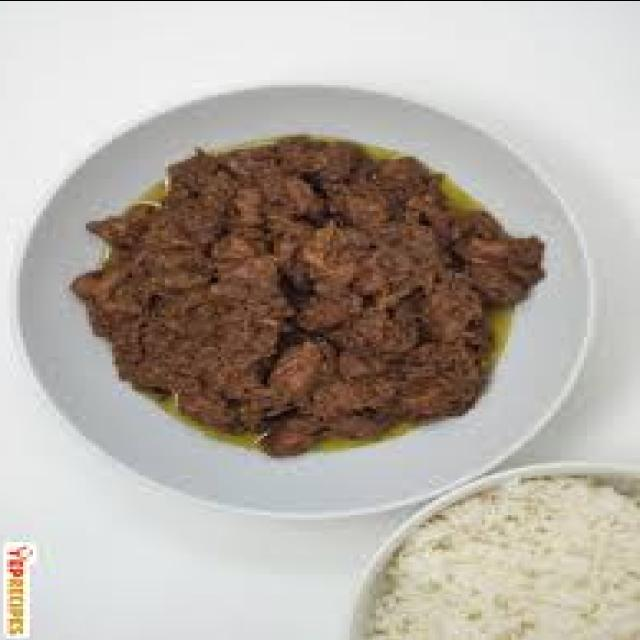rendang: (66, 128, 544, 457)
